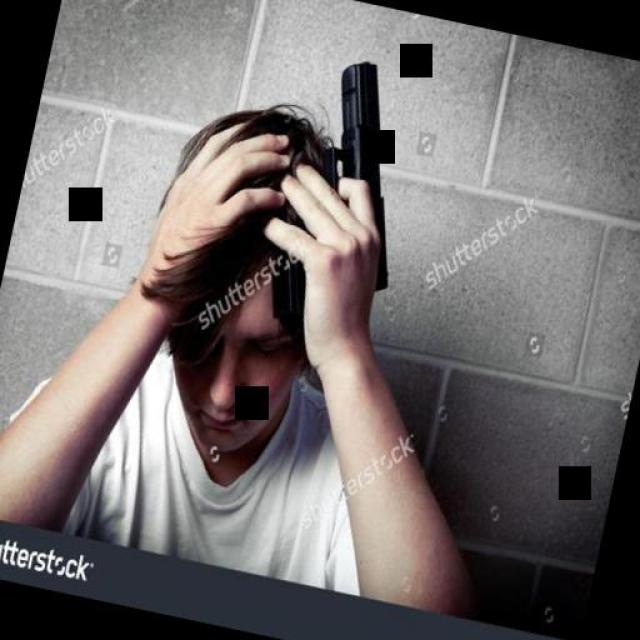gun: (258, 39, 424, 349)
